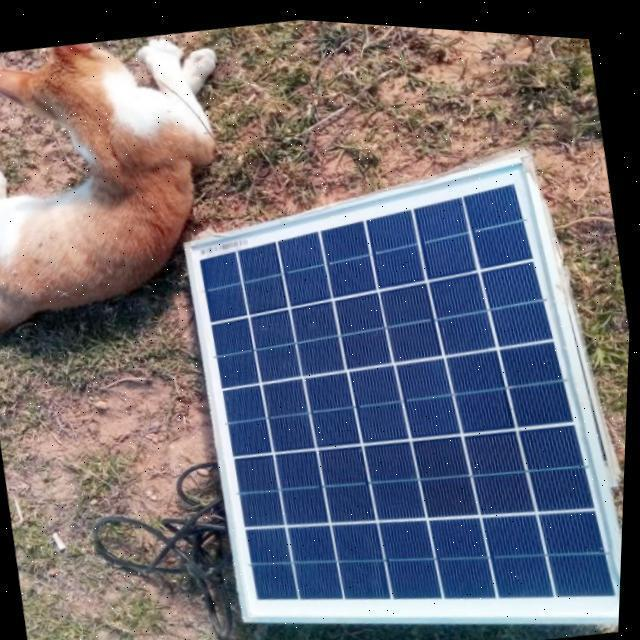Normal Solar Panel: (164, 118, 636, 640)
